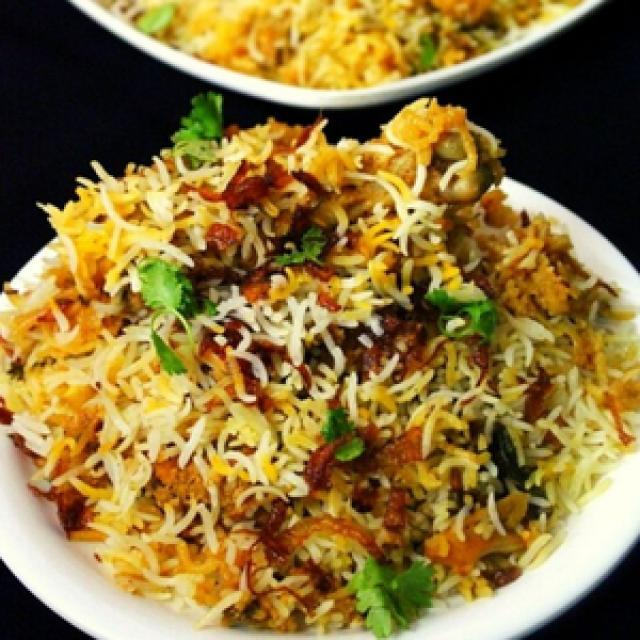chicken biriyani: (0, 106, 640, 640), (88, 0, 590, 105)
